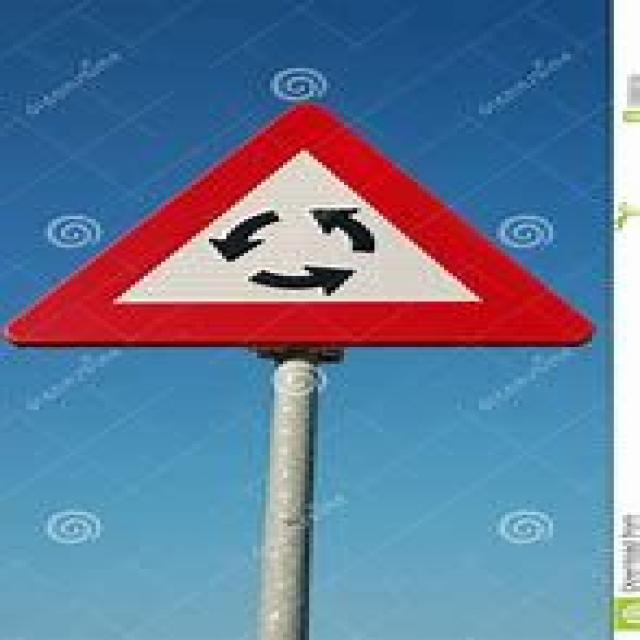ROUNDABOUT: (0, 96, 596, 344)
